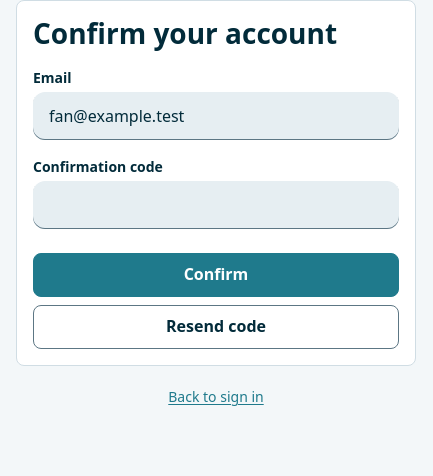
ConfirmPage in the narrow form card › renders a failed confirmation through InlineAlert (criterion 2)
Type "123456" into the field labelled "Confirmation code" at (216, 205), box [33,181,399,229]
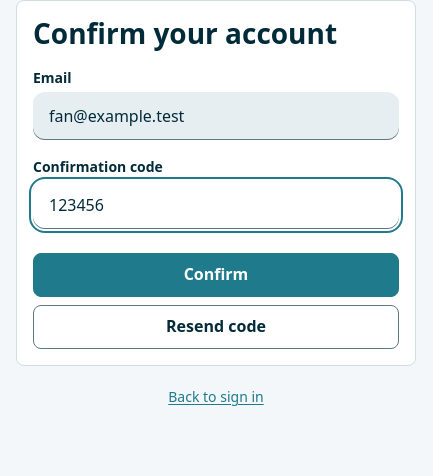
Click the button "Confirm" at (216, 275), box [33,253,399,297]
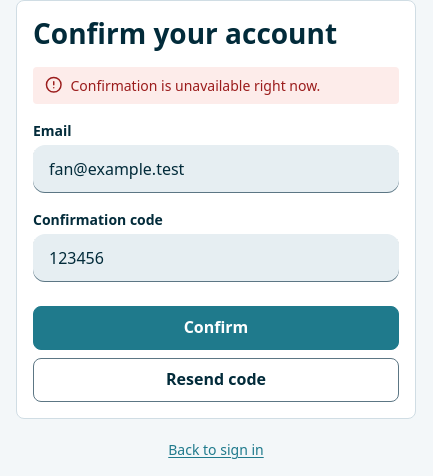
Expected: the message reads "Confirmation is unavailable right now.", [70,76,320,95]
